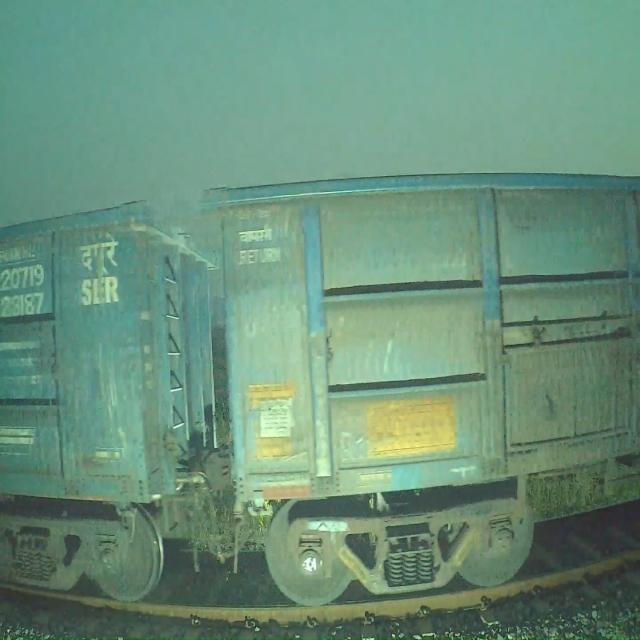WAgon-uic: (206, 166, 640, 612), (0, 191, 222, 607)
uic: (0, 258, 49, 327)
